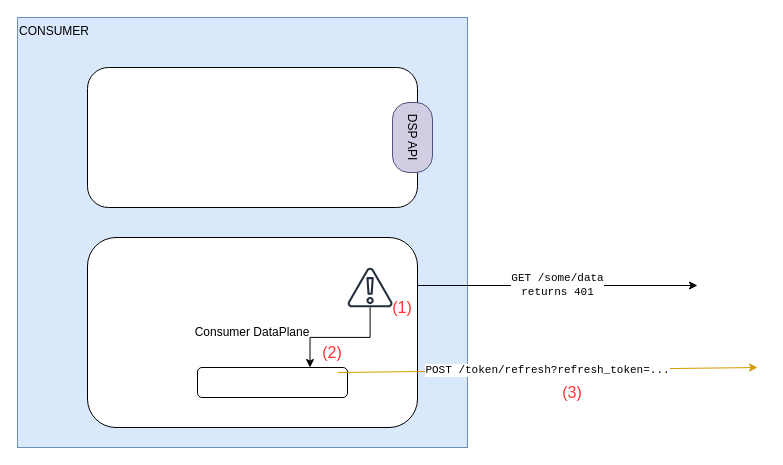
This 783x465 diagram has some shape labels left out. Here are the shapes that lost their labels. From the top down, the box of each, then its label:
(86, 66, 418, 208): Consumer ControlPlane
(196, 366, 348, 398): TokenRefreshHandler
